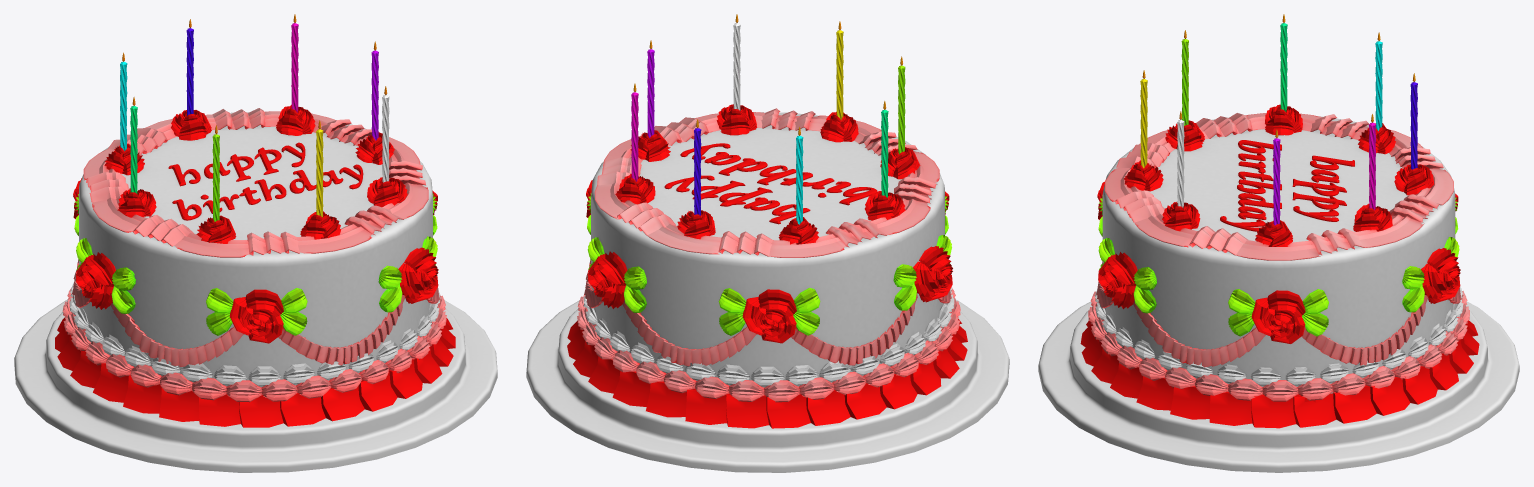
The model's file is cake.obj.
3 renders of one model, left to right at view 1: azimuth 30°, elevation 25°; view 2: azimuth 150°, elevation 25°; view 3: azimuth 270°, elevation 25°, orthographic.
Parts seen in each view (by area): view 1: ckae, cake; view 2: ckae, cake; view 3: ckae, cake.
Part boxes in pixels (x1,y1,x2,y2): ckae: (14, 112, 497, 472); cake: (55, 14, 455, 427); ckae: (526, 112, 1009, 472); cake: (567, 14, 967, 428); ckae: (1038, 116, 1519, 472); cake: (1080, 14, 1479, 428).
Bounding box in the file's own units: 159 × 109 × 159.
Materials: 1 (1 with a texture image).
